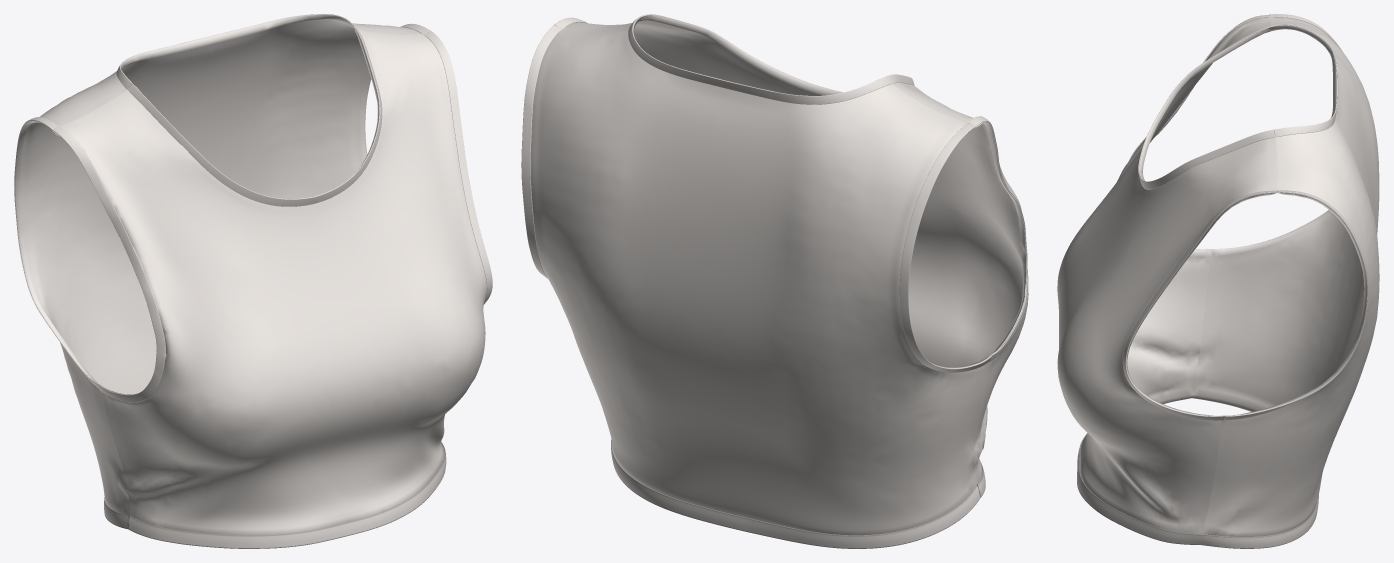
File: modelo.glb
3 views of the same model, side by side, from view 1: azimuth 30°, elevation 25°; view 2: azimuth 150°, elevation 25°; view 3: azimuth 270°, elevation 25° (orthographic). The views are drawn at different scales.
Parts seen in each view (by area): view 1: Cloth; view 2: Cloth; view 3: Cloth.
Part boxes in pixels (left/top/right/bottom): Cloth: left=14, top=14, right=492, bottom=548; Cloth: left=521, top=14, right=1028, bottom=548; Cloth: left=1057, top=14, right=1379, bottom=548.
Size of the model in its own units: 0.3017 by 0.3232 by 0.2277.
Materials: 2 (2 with a texture image).
